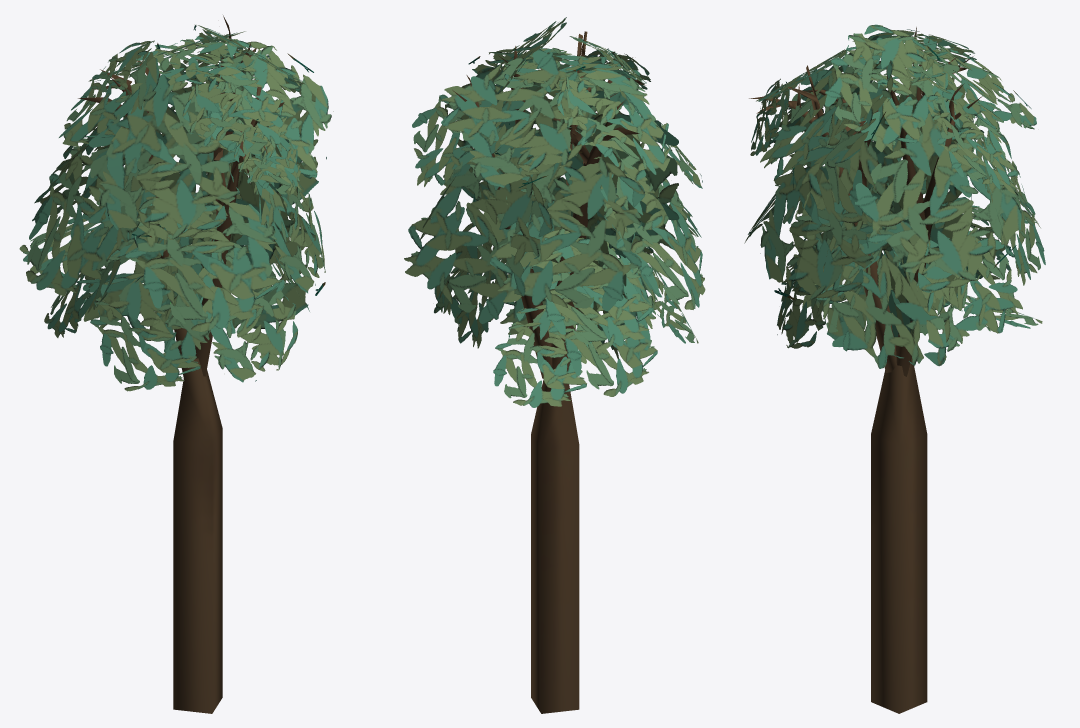
The model's file is Tree_1.fbx.
3 views of the same model, side by side, from view 1: azimuth 30°, elevation 25°; view 2: azimuth 150°, elevation 25°; view 3: azimuth 270°, elevation 25° (orthographic).
Parts seen in each view (by area): view 1: Tree 1; view 2: Tree 1; view 3: Tree 1.
Boxes of the visible parts, x1,y1,x2,y2 form: Tree 1: (19, 15, 333, 713); Tree 1: (404, 17, 705, 713); Tree 1: (744, 24, 1045, 713).
Size of the model in its own units: 577 by 1277 by 552.
